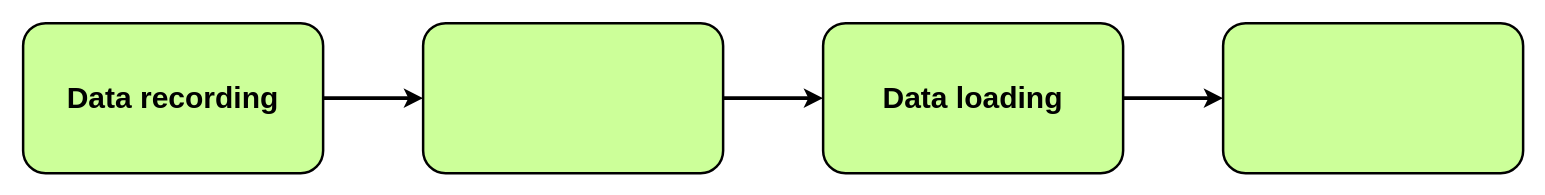
This 1545x195 diagram has some shape labels left out. The shapes that lost their labels are listed below. From the top down, each one's centre as x and y in pixels, then its label:
the point at 572,97: Data preprocessing
the point at 1372,97: SIPS
